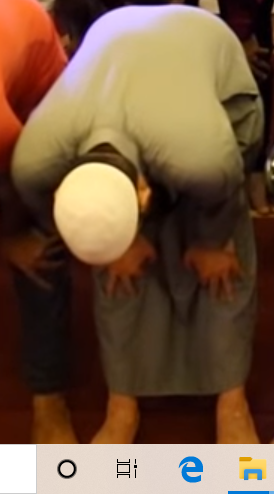ruku: (10, 3, 266, 443)
